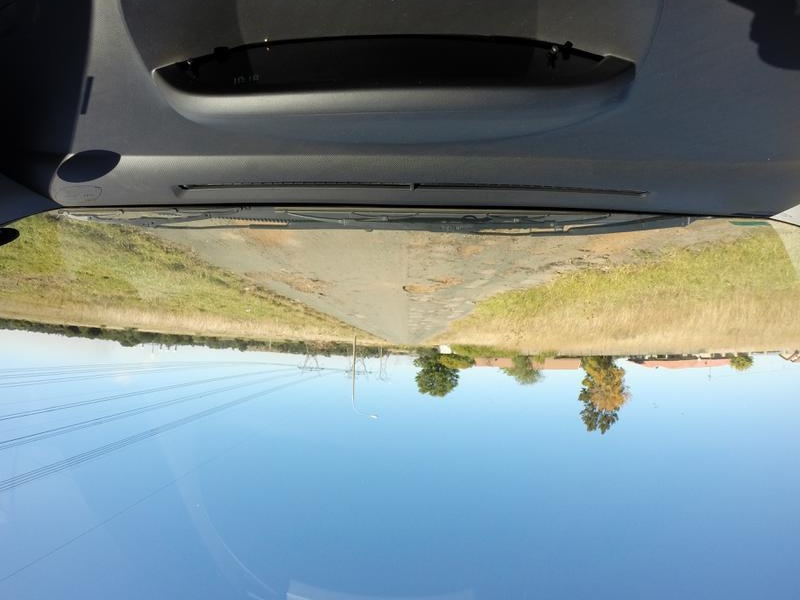pothole: (401, 238, 505, 264), (505, 260, 579, 292), (249, 268, 330, 290), (221, 231, 308, 248), (578, 235, 645, 252), (401, 280, 440, 297), (438, 271, 463, 288), (315, 292, 333, 302)
